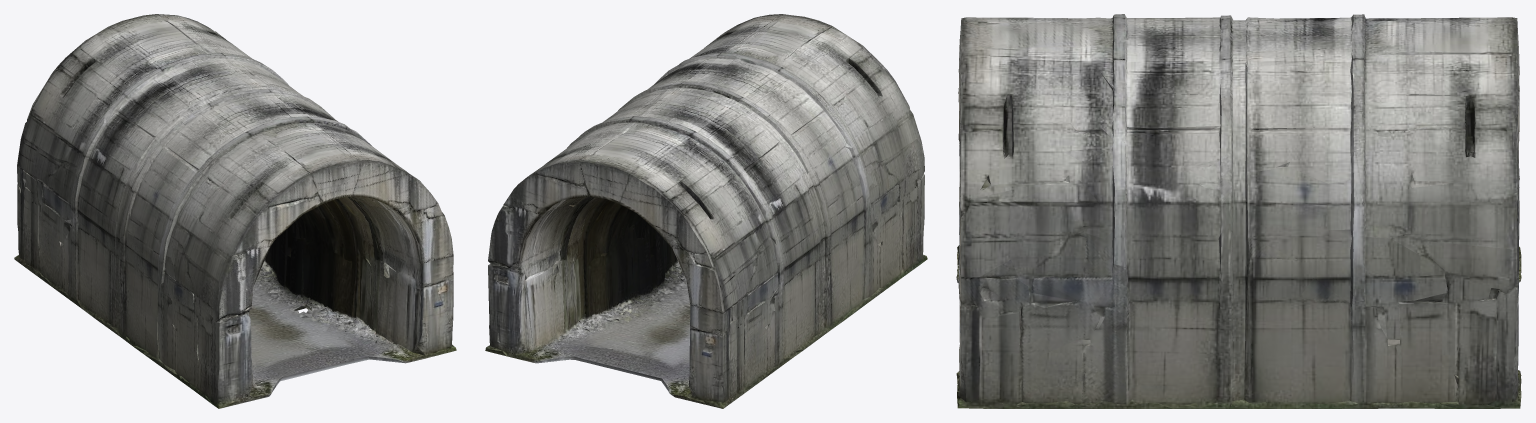
Rendered from tunnel_mouth.glb.
3 views of the same model, side by side, from view 1: azimuth 30°, elevation 25°; view 2: azimuth 150°, elevation 25°; view 3: azimuth 270°, elevation 25° (orthographic). The views are drawn at different scales.
Visible parts, largest first — view 1: tunnel_mouth; view 2: tunnel_mouth; view 3: tunnel_mouth.
Part boxes in pixels (box(x1,y1,x2,y2)): tunnel_mouth: box(14, 14, 456, 408); tunnel_mouth: box(485, 14, 927, 408); tunnel_mouth: box(956, 14, 1521, 408).
Bounding box in the file's own units: 1.27 × 1.1 × 1.9.
1 material, 1 textured.
